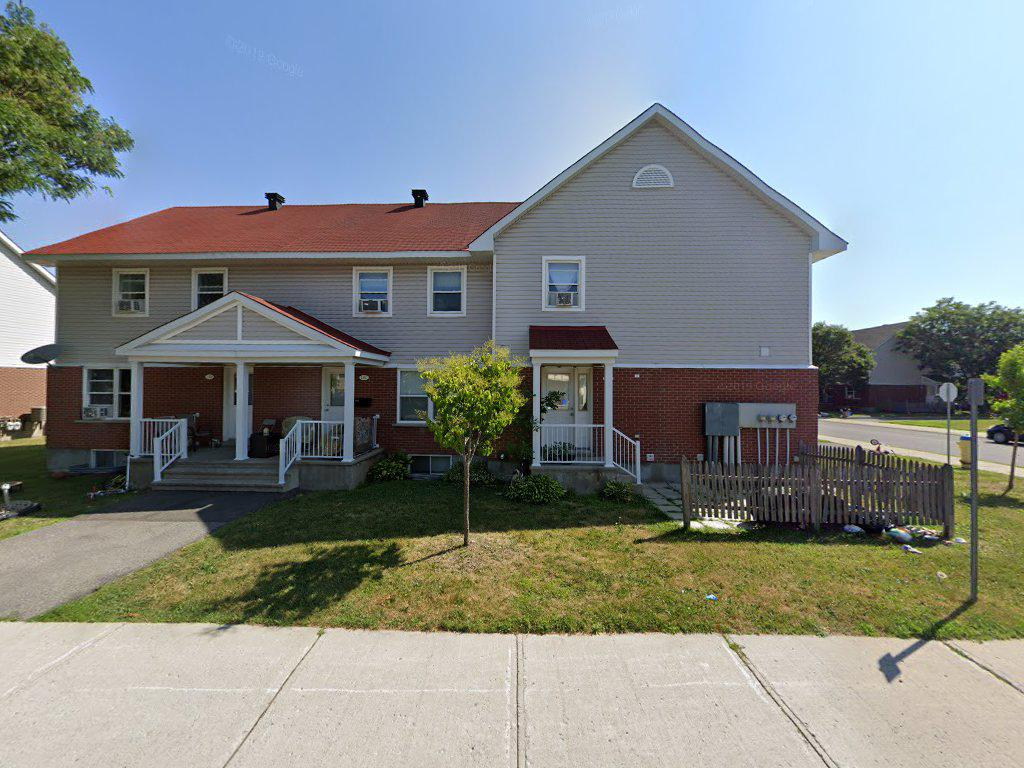trunk: (459, 456, 472, 560)
